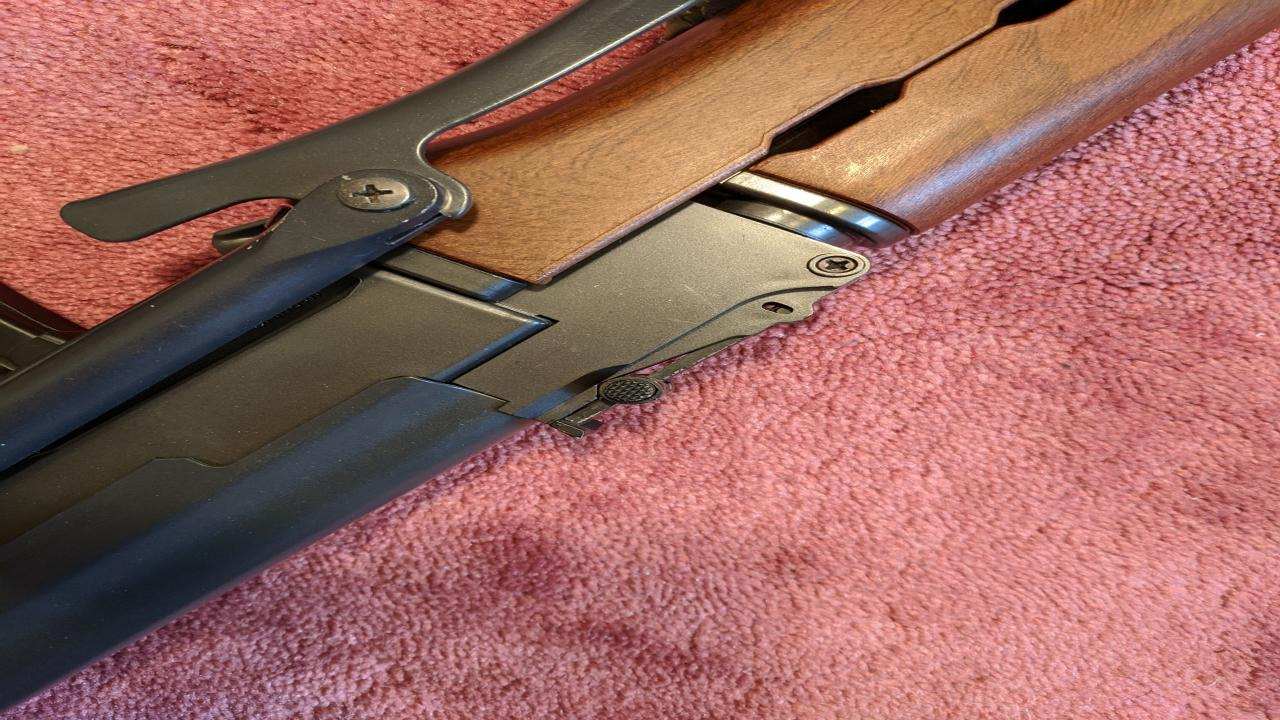CRS: (336, 178, 414, 212), (812, 254, 856, 273)
